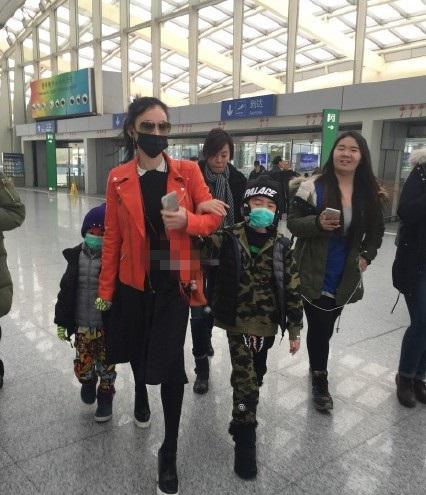NONE: (336, 145, 361, 171), (209, 150, 233, 174)
OK: (249, 194, 277, 228), (86, 228, 106, 251)
WRONG: (136, 119, 172, 158)
